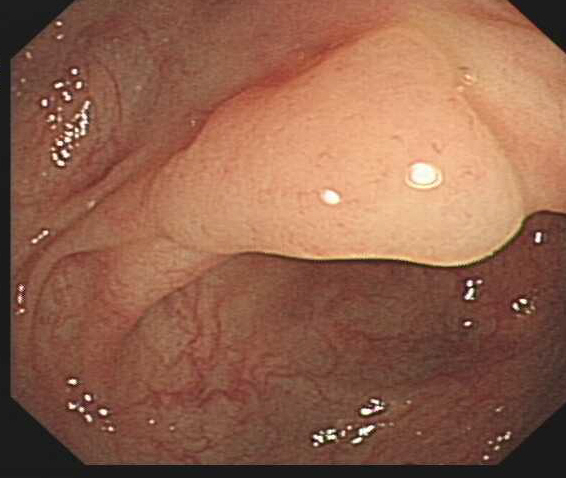others: (147, 25, 525, 271)
